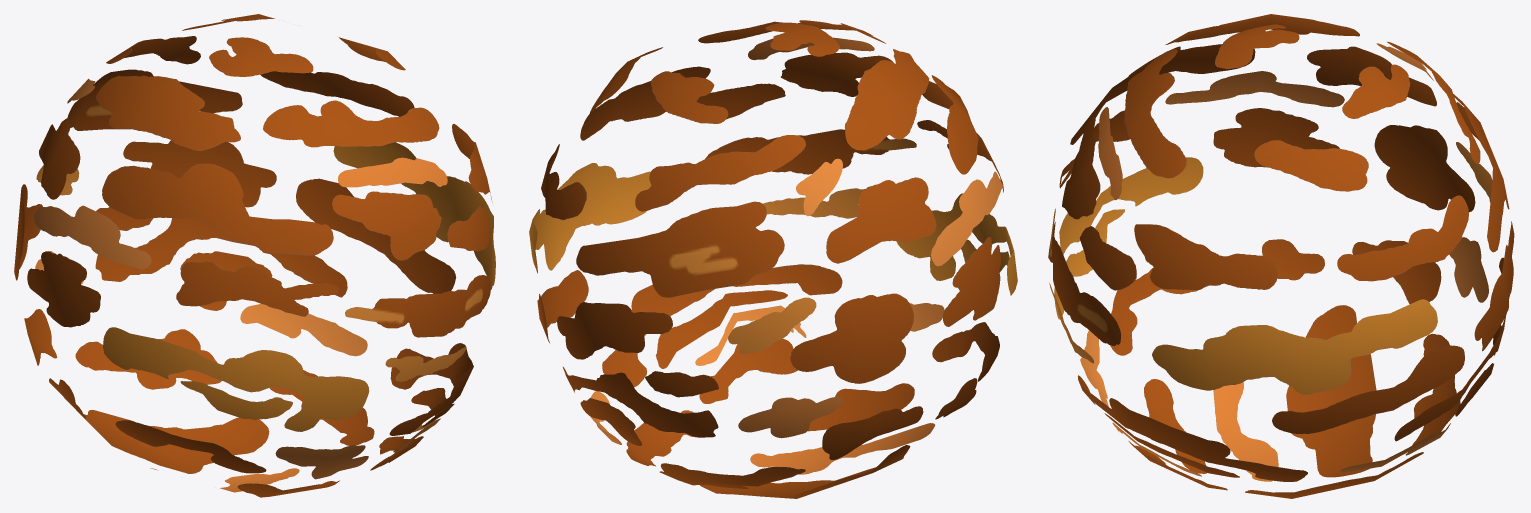
Rendered from second_layer.obj.
The picture shows the model from 3 angles, left to right: view 1: azimuth 30°, elevation 25°; view 2: azimuth 150°, elevation 25°; view 3: azimuth 270°, elevation 25°; orthographic projection.
Visible parts, largest first — view 1: level_1_Cube.001; view 2: level_1_Cube.001; view 3: level_1_Cube.001.
Boxes of the visible parts, x1,y1,x2,y2 form: level_1_Cube.001: (14, 14, 495, 497); level_1_Cube.001: (529, 20, 1017, 498); level_1_Cube.001: (1048, 14, 1514, 498).
Bounding box in the file's own units: 1.69 × 1.69 × 1.67.
1 material, 1 textured.
